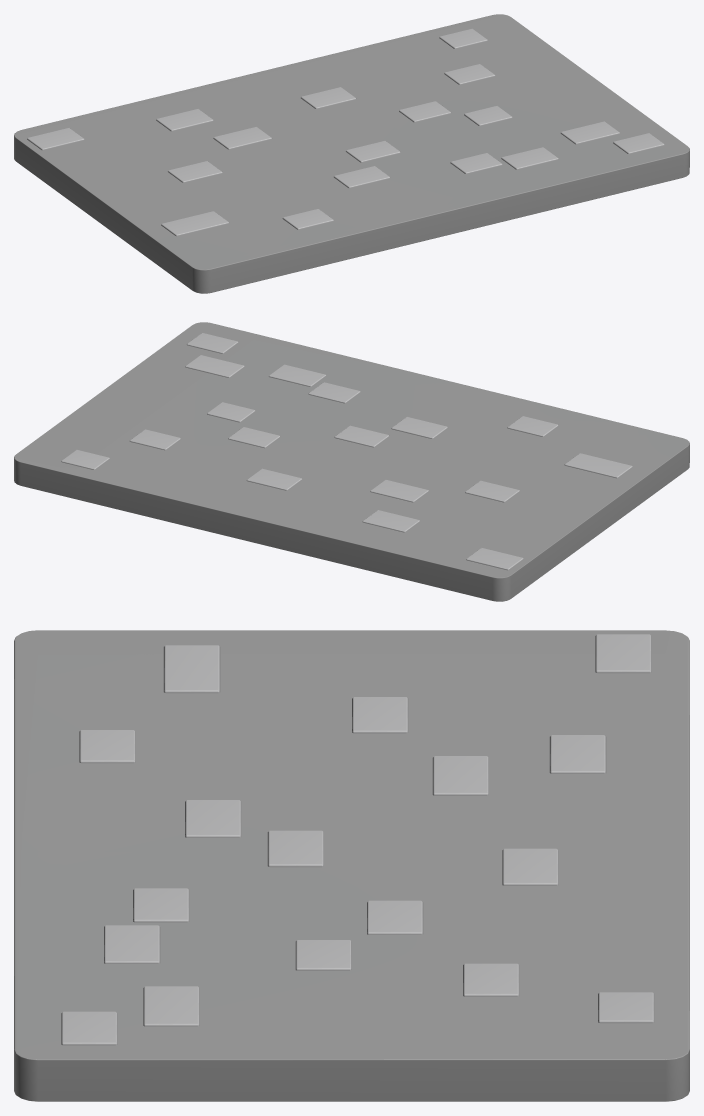
File: Public_12_Base_1.glb
The picture shows the model from 3 angles, top to bottom: view 1: azimuth 30°, elevation 25°; view 2: azimuth 150°, elevation 25°; view 3: azimuth 270°, elevation 25°; orthographic projection. The views are drawn at different scales.
Visible parts, largest first — view 1: Public_12_Base_1; view 2: Public_12_Base_1; view 3: Public_12_Base_1.
Part boxes in pixels (x1,y1,x2,y2): Public_12_Base_1: (14, 14, 689, 293); Public_12_Base_1: (14, 322, 689, 601); Public_12_Base_1: (14, 630, 689, 1101).
Size of the model in its own units: 26.23 by 1.28 by 17.44.
1 material, 1 textured.
